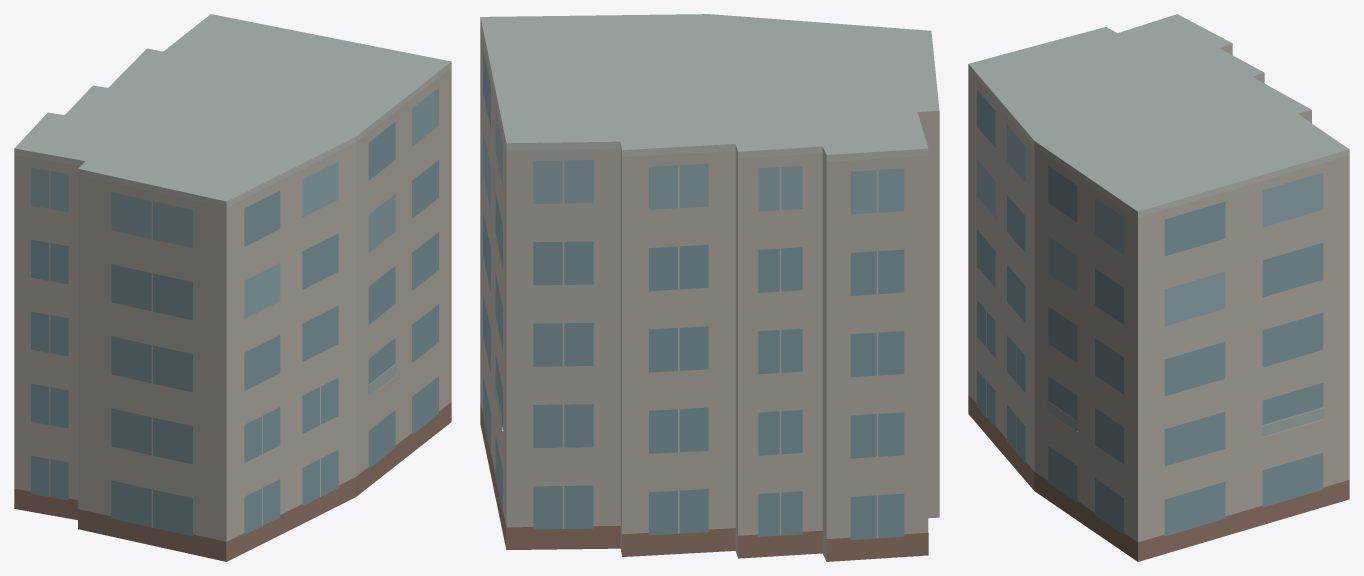
The model's file is survey-upis-32601798.glb.
3 views of the same model, side by side, from view 1: azimuth 30°, elevation 25°; view 2: azimuth 150°, elevation 25°; view 3: azimuth 270°, elevation 25° (orthographic). The views are drawn at different scales.
Visible parts, largest first — view 1: survey-upis-32601798.tmp; view 2: survey-upis-32601798.tmp; view 3: survey-upis-32601798.tmp.
Boxes of the visible parts, bbox=[...] form: survey-upis-32601798.tmp: bbox=[14, 14, 451, 561]; survey-upis-32601798.tmp: bbox=[480, 14, 939, 561]; survey-upis-32601798.tmp: bbox=[968, 14, 1349, 561].
Bounding box in the file's own units: 17.45 × 14.4 × 14.21.
